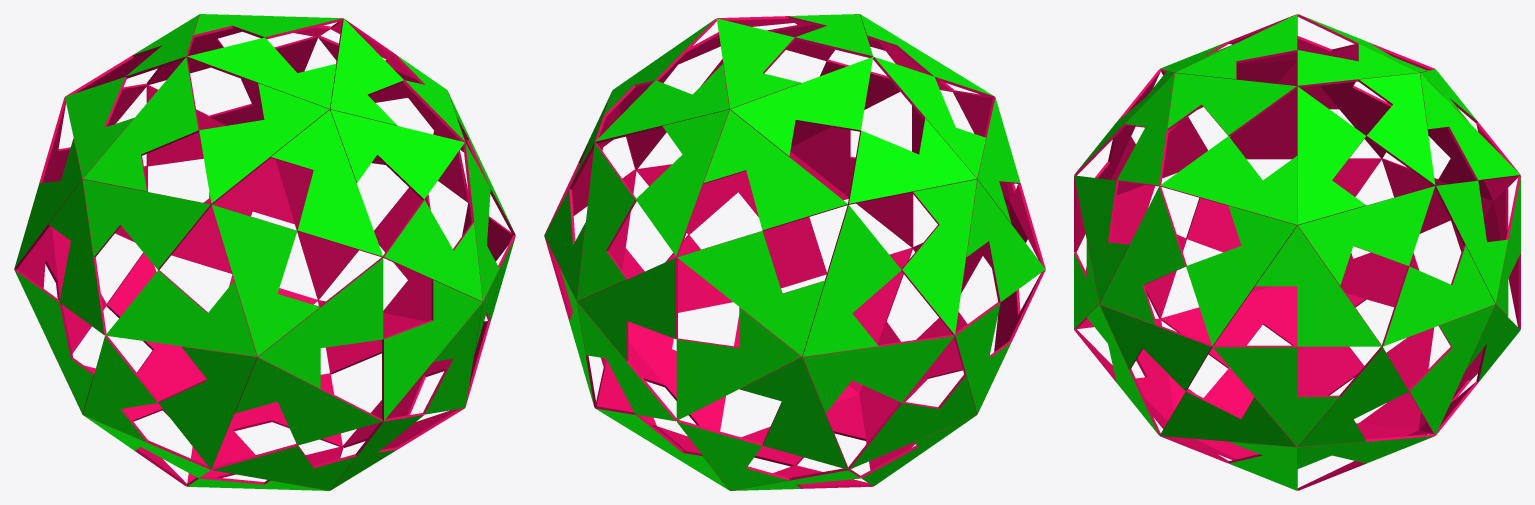
The model's file is PentakisDodecahedronS.glb.
The picture shows the model from 3 angles, left to right: view 1: azimuth 30°, elevation 25°; view 2: azimuth 150°, elevation 25°; view 3: azimuth 270°, elevation 25°; orthographic projection. The views are drawn at different scales.
Parts seen in each view (by area): view 1: root; view 2: root; view 3: root.
Boxes of the visible parts, left/top/right/bottom form: root: left=14, top=14, right=515, bottom=490; root: left=544, top=14, right=1045, bottom=490; root: left=1074, top=14, right=1520, bottom=490.
Bounding box in the file's own units: 8.77 × 8.77 × 8.77.
